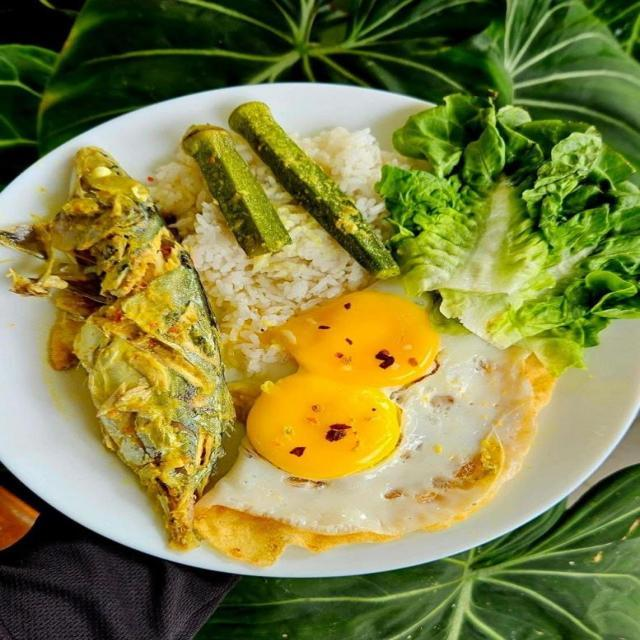Egg: (186, 293, 550, 569)
Fish: (2, 147, 227, 546)
Plate: (0, 249, 639, 576)
Rice: (162, 129, 419, 364)
Vegetables: (377, 91, 639, 377), (236, 103, 400, 273), (183, 131, 294, 258)
